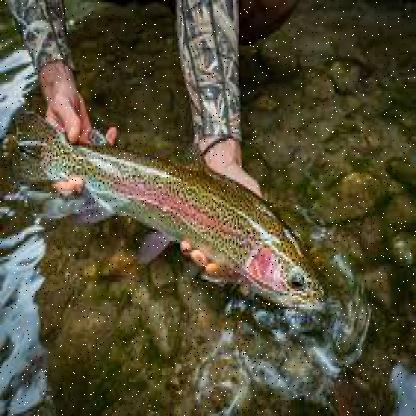fish: (5, 110, 326, 310)
